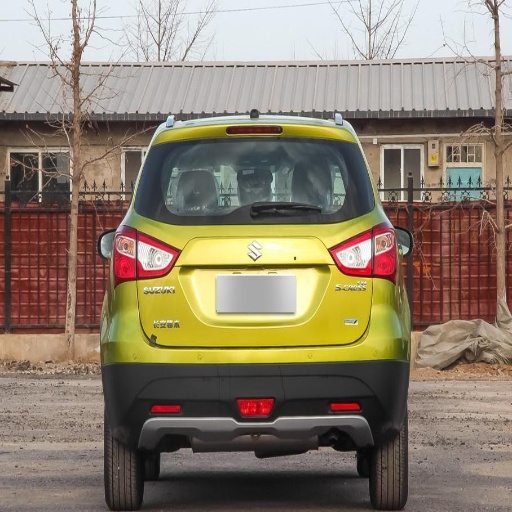back_bumper: (99, 278, 410, 447)
tailgate: (137, 213, 370, 342)
trunk: (125, 227, 282, 348), (327, 218, 374, 343)
